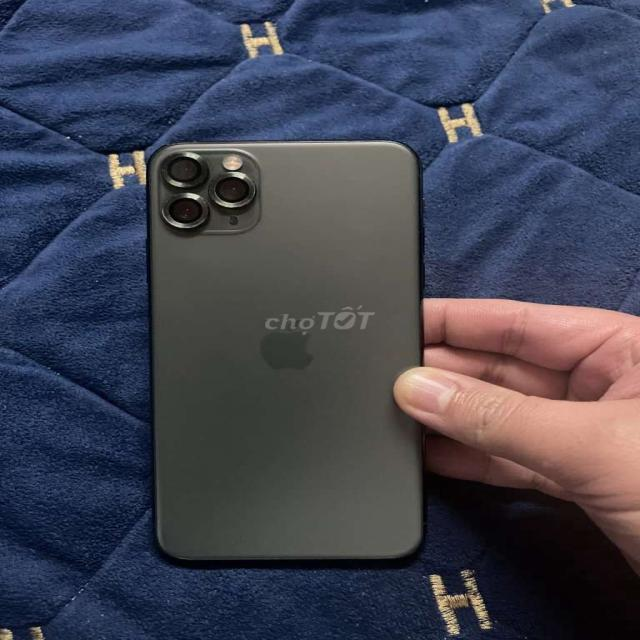scratch: (186, 188, 218, 212), (251, 186, 272, 202), (162, 148, 185, 161)
